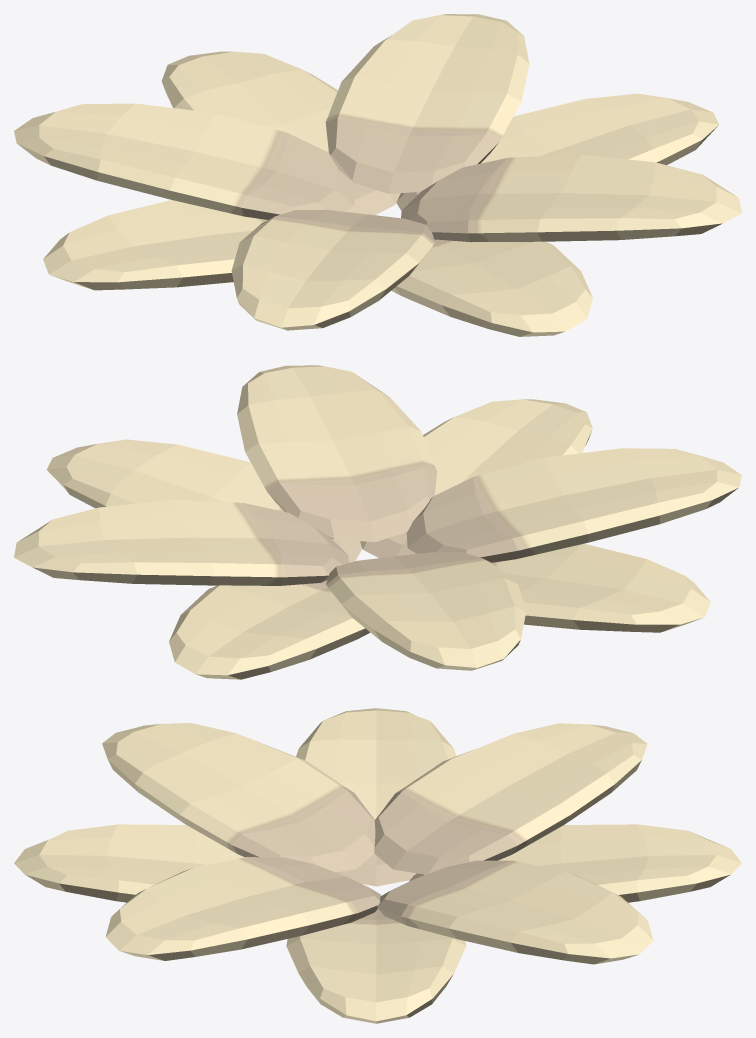
File: flower2.fbx
The picture shows the model from 3 angles, top to bottom: view 1: azimuth 30°, elevation 25°; view 2: azimuth 150°, elevation 25°; view 3: azimuth 270°, elevation 25°; orthographic projection. The views are drawn at different scales.
Parts seen in each view (by area): view 1: flower.001; view 2: flower.001; view 3: flower.001.
Part boxes in pixels (x1,y1,x2,y2): flower.001: (14,14,741,336); flower.001: (14,365,741,679); flower.001: (14,708,741,1023).
Bounding box in the file's own units: 46.97 × 5.2 × 46.14.
